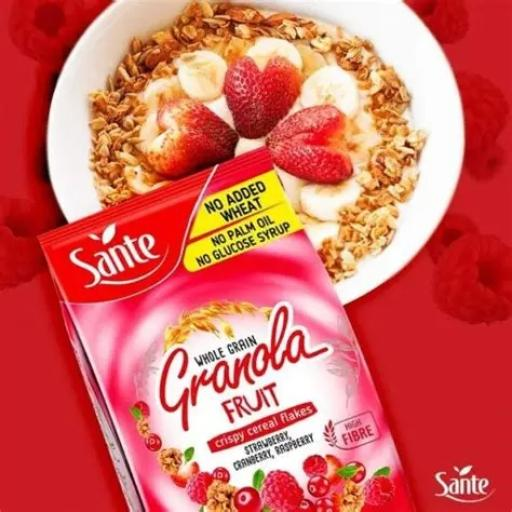granola: (35, 172, 417, 511)
